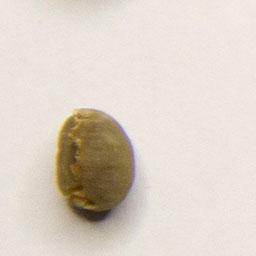peaberry: (53, 104, 138, 217)
